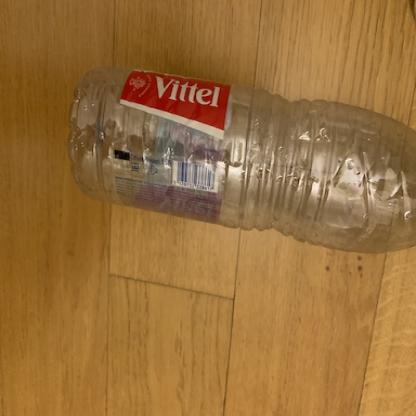trash: (66, 66, 416, 257)
